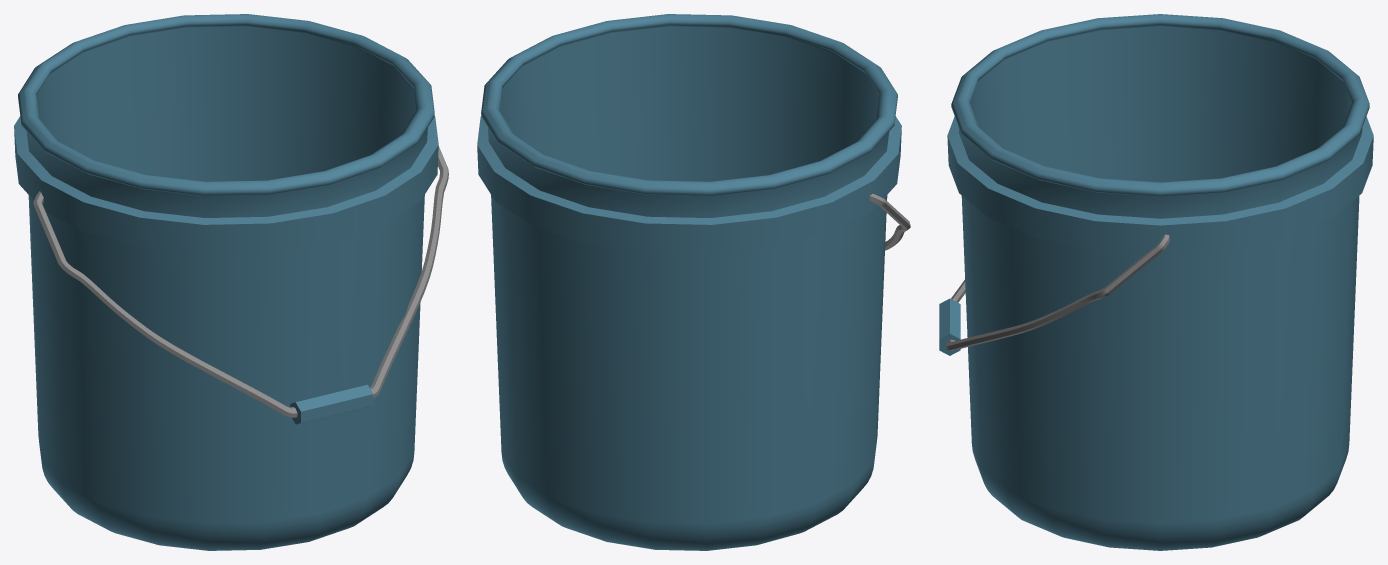
File: BucketModel.fbx
3 renders of one model, left to right at view 1: azimuth 30°, elevation 25°; view 2: azimuth 150°, elevation 25°; view 3: azimuth 270°, elevation 25°, orthographic.
Parts seen in each view (by area): view 1: Bucket; view 2: Bucket; view 3: Bucket.
Boxes of the visible parts, bbox=[...] form: Bucket: bbox=[14, 14, 448, 550]; Bucket: bbox=[477, 14, 910, 550]; Bucket: bbox=[939, 14, 1373, 550].
Bounding box in the file's own units: 0.3042 × 0.2881 × 0.2941.
